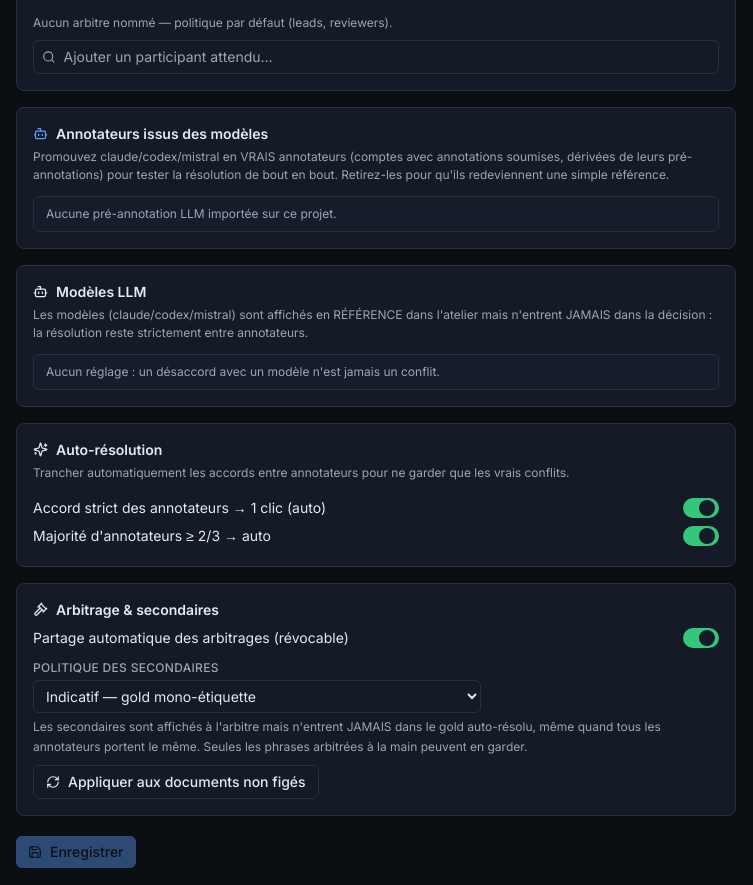
Test case: GoldConfigStudio › bascule l'auto-résolution des majorités et l'active à l'enregistrement
(page scrolled)
What coordinates should you click on to do the following:
click the switch with test id "config-majority"
I would click on:
 (701, 536)
Its box is [683,526,719,546].
(page scrolled)
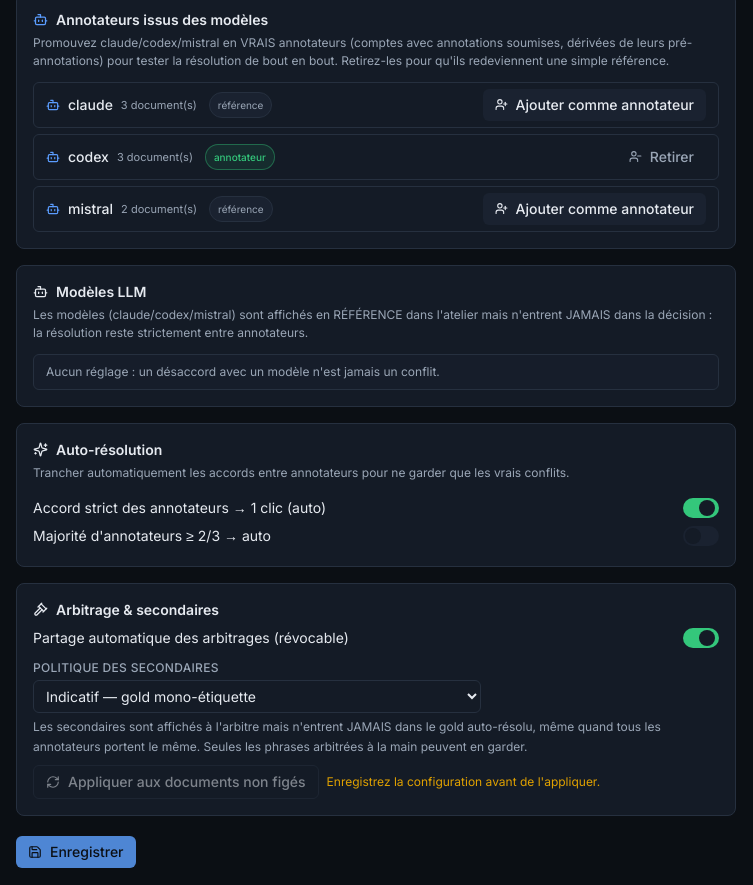
Result: the button with test id "gold-config-save" is enabled at [16,836,136,868]
